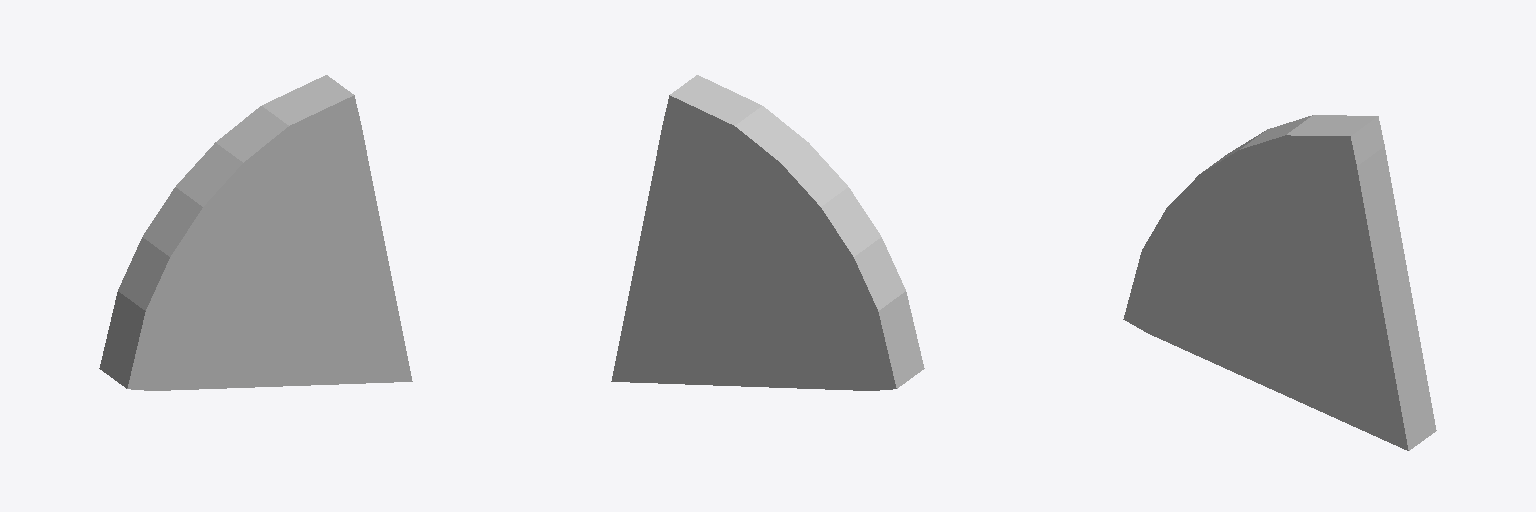
The model's file is Watermelon.obj.
3 renders of one model, left to right at view 1: azimuth 30°, elevation 25°; view 2: azimuth 150°, elevation 25°; view 3: azimuth 330°, elevation 25°, orthographic.
Parts seen in each view (by area): view 1: Cylinder.001; view 2: Cylinder.001; view 3: Cylinder.001.
Part boxes in pixels (left/top/right/bottom): Cylinder.001: left=99, top=75, right=412, bottom=390; Cylinder.001: left=611, top=75, right=924, bottom=390; Cylinder.001: left=1123, top=115, right=1436, bottom=450.
Bounding box in the file's own units: 4.3 × 4.33 × 0.7286.